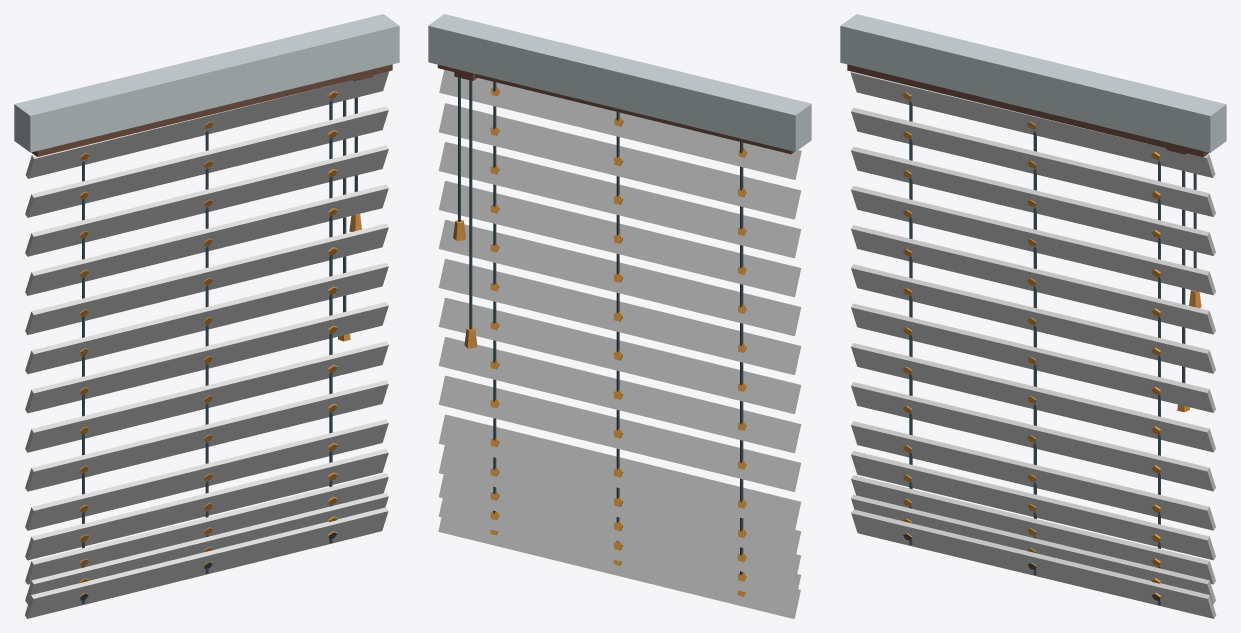
Rendered from window shutter ORIGIN.fbx.
3 renders of one model, left to right at view 1: azimuth 30°, elevation 25°; view 2: azimuth 150°, elevation 25°; view 3: azimuth 330°, elevation 25°, orthographic.
Visible parts, largest first — view 1: group1804256626.001, group1804256626.012, group1804256626.005, group1804256626.007, group1804256626.006, group1804256626.003, group1804256626.004, group1804256626.014, group1804256626.011, group1804256626.010, group1804256626.009, group1804256626.008 (+3 smaller); view 2: group1804256626.001, group1804256626.007, group1804256626.005, group1804256626.011, group1804256626.003, group1804256626.004, group1804256626.010, group1804256626.008, group1804256626.006, group1804256626.009, group1804256626.012, group1804256626.002 (+3 smaller); view 3: group1804256626.001, group1804256626.012, group1804256626.005, group1804256626.006, group1804256626.003, group1804256626.004, group1804256626.014, group1804256626.011, group1804256626.007, group1804256626.010, group1804256626.009, group1804256626.008 (+3 smaller).
Part boxes in pixels (x1=…): group1804256626.001: x1=14, y1=14, x2=399, y2=156; group1804256626.012: x1=25, y1=449, x2=388, y2=564; group1804256626.005: x1=25, y1=179, x2=388, y2=295; group1804256626.007: x1=25, y1=260, x2=388, y2=398; group1804256626.006: x1=25, y1=219, x2=388, y2=334; group1804256626.003: x1=25, y1=97, x2=388, y2=217; group1804256626.004: x1=25, y1=138, x2=388, y2=256; group1804256626.014: x1=25, y1=496, x2=388, y2=608; group1804256626.011: x1=25, y1=411, x2=388, y2=530; group1804256626.010: x1=25, y1=372, x2=388, y2=491; group1804256626.009: x1=25, y1=337, x2=388, y2=452; group1804256626.008: x1=25, y1=295, x2=388, y2=413; group1804256626.001: x1=428, y1=14, x2=811, y2=154; group1804256626.007: x1=438, y1=259, x2=801, y2=385; group1804256626.005: x1=438, y1=181, x2=801, y2=296; group1804256626.011: x1=438, y1=414, x2=801, y2=531; group1804256626.003: x1=439, y1=103, x2=801, y2=219; group1804256626.004: x1=438, y1=142, x2=801, y2=258; group1804256626.010: x1=438, y1=375, x2=801, y2=491; group1804256626.008: x1=438, y1=297, x2=801, y2=413; group1804256626.006: x1=438, y1=220, x2=801, y2=335; group1804256626.009: x1=438, y1=337, x2=801, y2=453; group1804256626.012: x1=438, y1=445, x2=801, y2=560; group1804256626.002: x1=439, y1=69, x2=801, y2=179; group1804256626.001: x1=840, y1=14, x2=1226, y2=157; group1804256626.012: x1=851, y1=451, x2=1215, y2=564; group1804256626.005: x1=851, y1=186, x2=1215, y2=297; group1804256626.006: x1=851, y1=225, x2=1215, y2=334; group1804256626.003: x1=851, y1=107, x2=1215, y2=216; group1804256626.004: x1=851, y1=146, x2=1215, y2=255; group1804256626.014: x1=851, y1=498, x2=1215, y2=608; group1804256626.011: x1=851, y1=413, x2=1215, y2=530; group1804256626.007: x1=851, y1=264, x2=1213, y2=399; group1804256626.010: x1=851, y1=374, x2=1215, y2=491; group1804256626.009: x1=851, y1=338, x2=1215, y2=452; group1804256626.008: x1=851, y1=303, x2=1215, y2=412.
Bounding box in the file's own units: 184 × 244 × 15.2.
